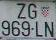-: (31, 28, 34, 30)
6: (12, 20, 20, 36)
9: (1, 20, 10, 36), (22, 21, 30, 36)
G: (28, 3, 37, 19)
L: (36, 21, 43, 37)
N: (45, 21, 54, 37)
Z: (16, 3, 26, 19)
